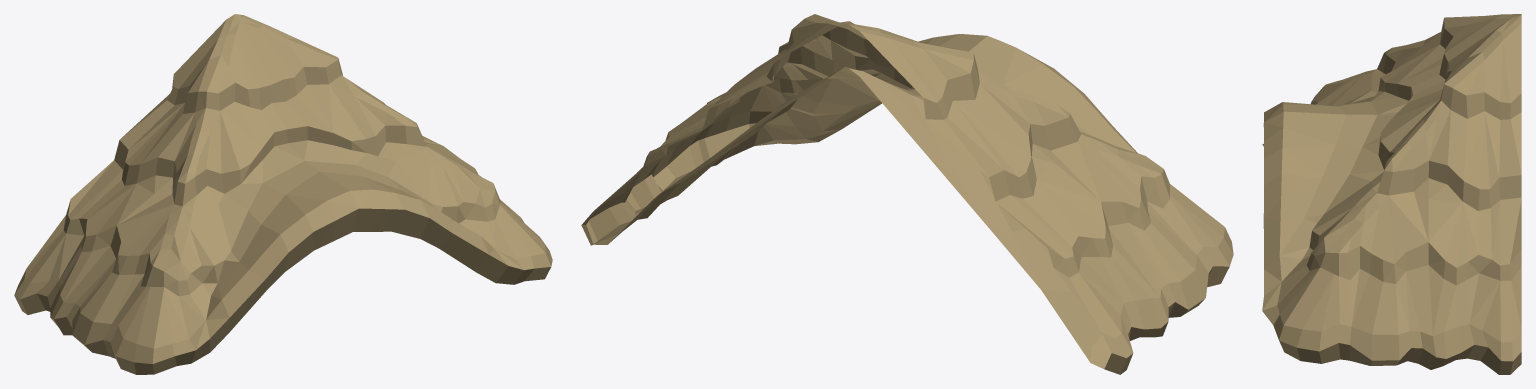
File: rpgpp_ag_roof_02_6x3x3_end_03.fbx
3 renders of one model, left to right at view 1: azimuth 30°, elevation 25°; view 2: azimuth 150°, elevation 25°; view 3: azimuth 270°, elevation 25°, orthographic. The views are drawn at different scales.
Visible parts, largest first — view 1: rpgpp_ag_roof_02_6x3x3_end_03; view 2: rpgpp_ag_roof_02_6x3x3_end_03; view 3: rpgpp_ag_roof_02_6x3x3_end_03.
Boxes of the visible parts, x1=… form: rpgpp_ag_roof_02_6x3x3_end_03: x1=14, y1=14, x2=552, y2=374; rpgpp_ag_roof_02_6x3x3_end_03: x1=581, y1=14, x2=1233, y2=374; rpgpp_ag_roof_02_6x3x3_end_03: x1=1262, y1=14, x2=1521, y2=374.
Size of the model in its own units: 8.1 by 4.12 by 3.89.
